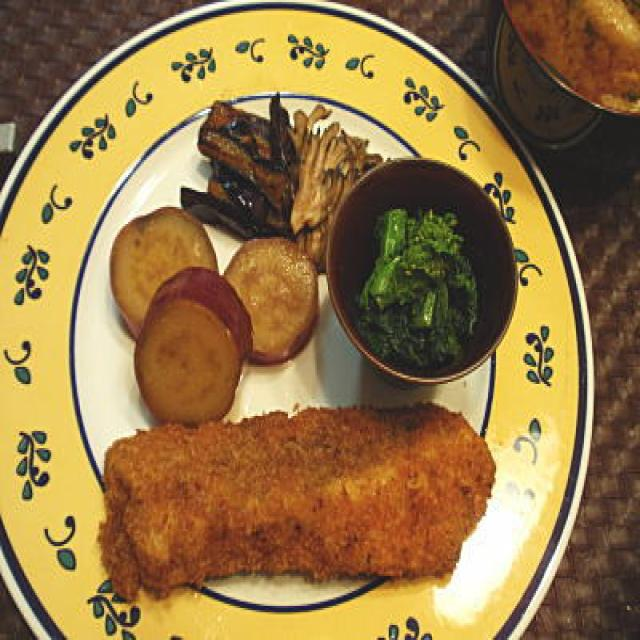炸货点心: (104, 401, 578, 610)
熟制海鲜: (104, 401, 578, 610)
